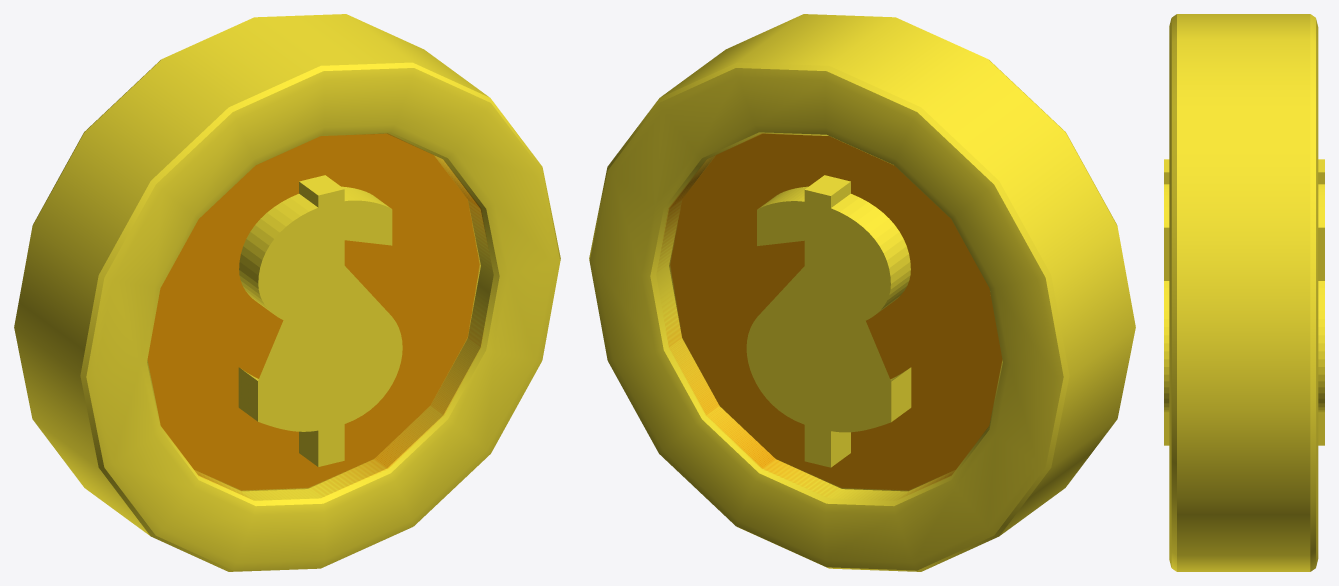
File: coin.fbx
The picture shows the model from 3 angles, left to right: view 1: azimuth 30°, elevation 25°; view 2: azimuth 150°, elevation 25°; view 3: azimuth 270°, elevation 25°; orthographic projection.
Parts seen in each view (by area): view 1: Cylinder; view 2: Cylinder; view 3: Cylinder.
Part boxes in pixels (x1,y1,x2,y2): Cylinder: (14,14,560,571); Cylinder: (589,14,1135,571); Cylinder: (1164,14,1324,571).
Bounding box in the file's own units: 22.8 × 22.8 × 6.57.
Materials: 1 (1 with a texture image).
